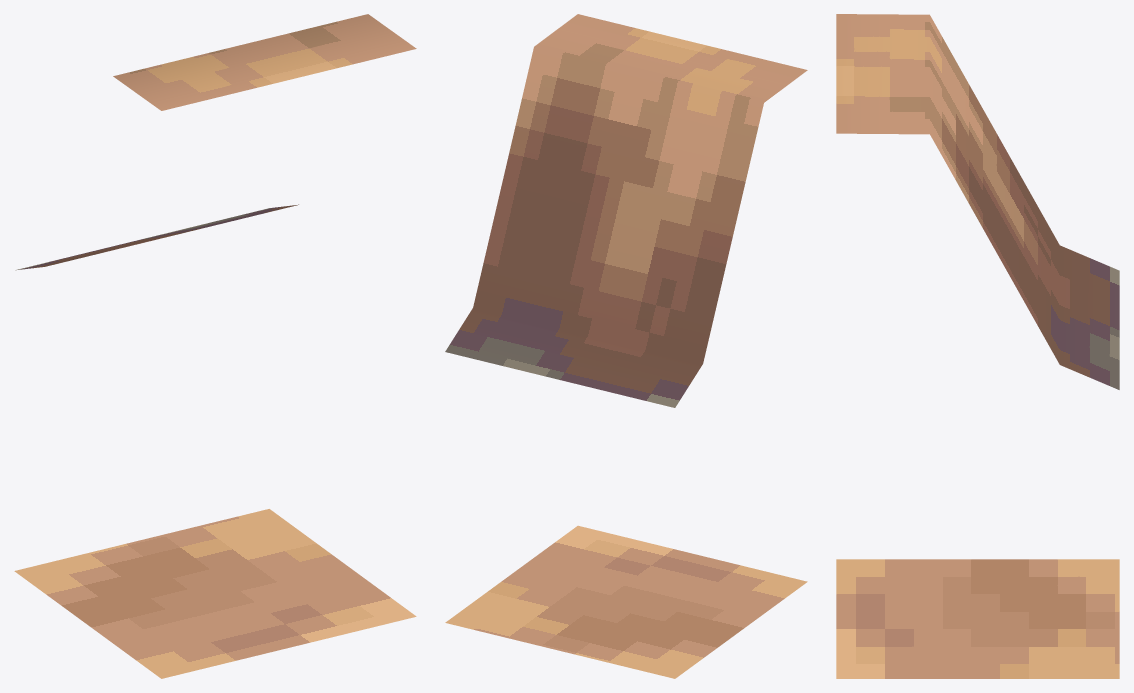
3 renders of one model, left to right at view 1: azimuth 30°, elevation 25°; view 2: azimuth 150°, elevation 25°; view 3: azimuth 270°, elevation 25°, orthographic. The views are drawn at different scales.
Size of the model in its own units: 1 by 2.12 by 1.
2 materials, 2 textured.
